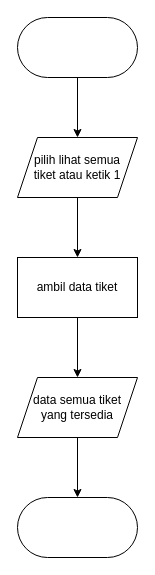
The diagram is 155 pixels wide and 575 high, and some of its shapes have lost their labels. Here are the shapes that lost their labels. From the top down, the centre of each, then its label:
the point at 77,47: mulai
the point at 77,527: selesai
